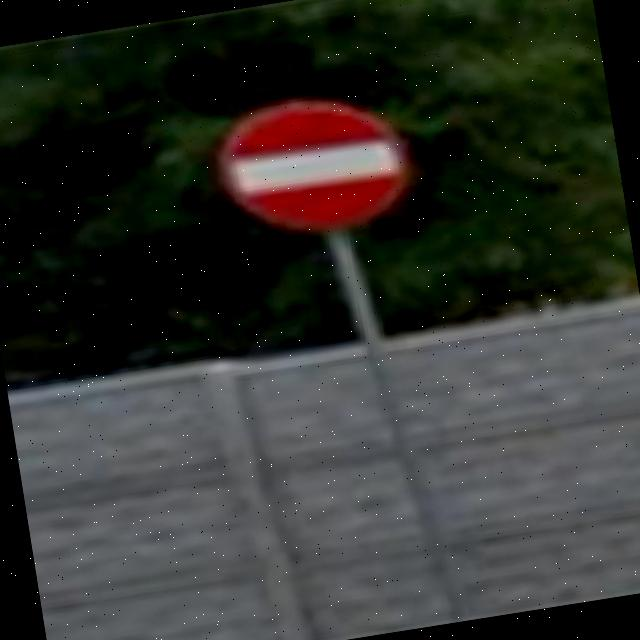Zakaz wjazdu: (209, 81, 421, 252)
